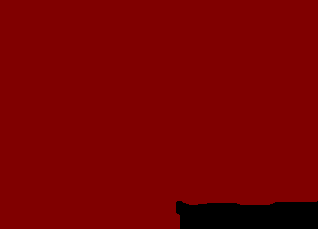Sky: (1, 1, 317, 228)
